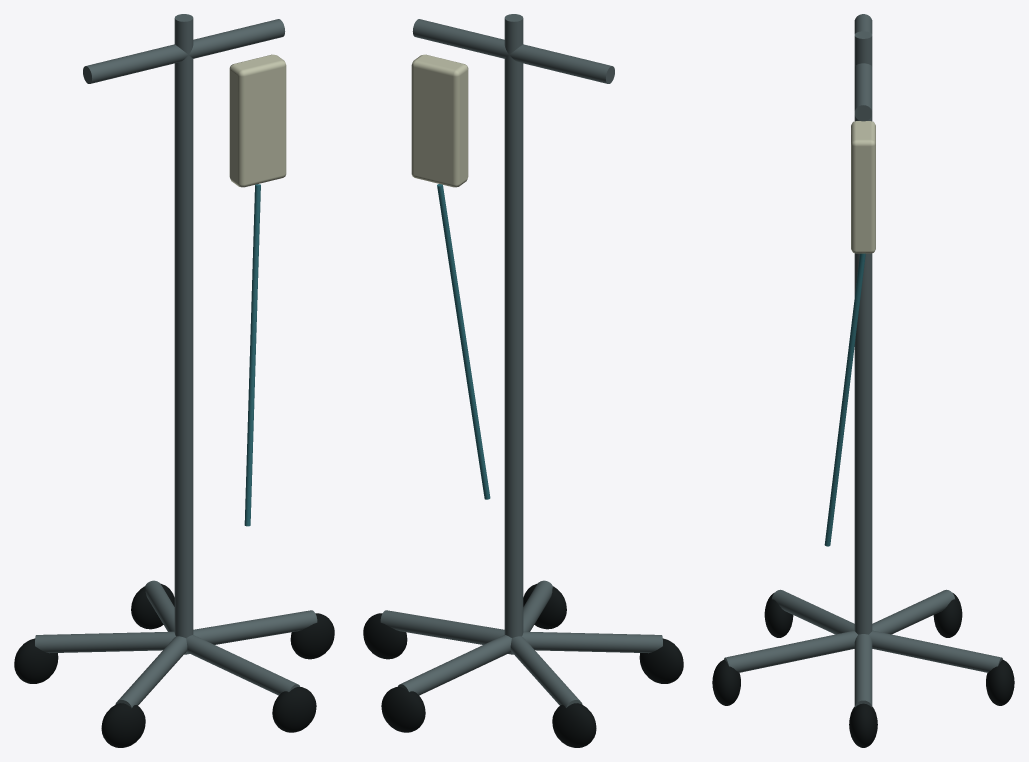
File: IVStand.obj
3 views of the same model, side by side, from view 1: azimuth 30°, elevation 25°; view 2: azimuth 150°, elevation 25°; view 3: azimuth 270°, elevation 25° (orthographic). The views are drawn at different scales.
Visible parts, largest first — view 1: IVStand; view 2: IVStand; view 3: IVStand.
Boxes of the visible parts, x1,y1,x2,y2 form: IVStand: (14, 14, 334, 747); IVStand: (363, 14, 683, 747); IVStand: (712, 14, 1014, 747).
Bounding box in the file's own units: 0.8536 × 2 × 0.8408.
